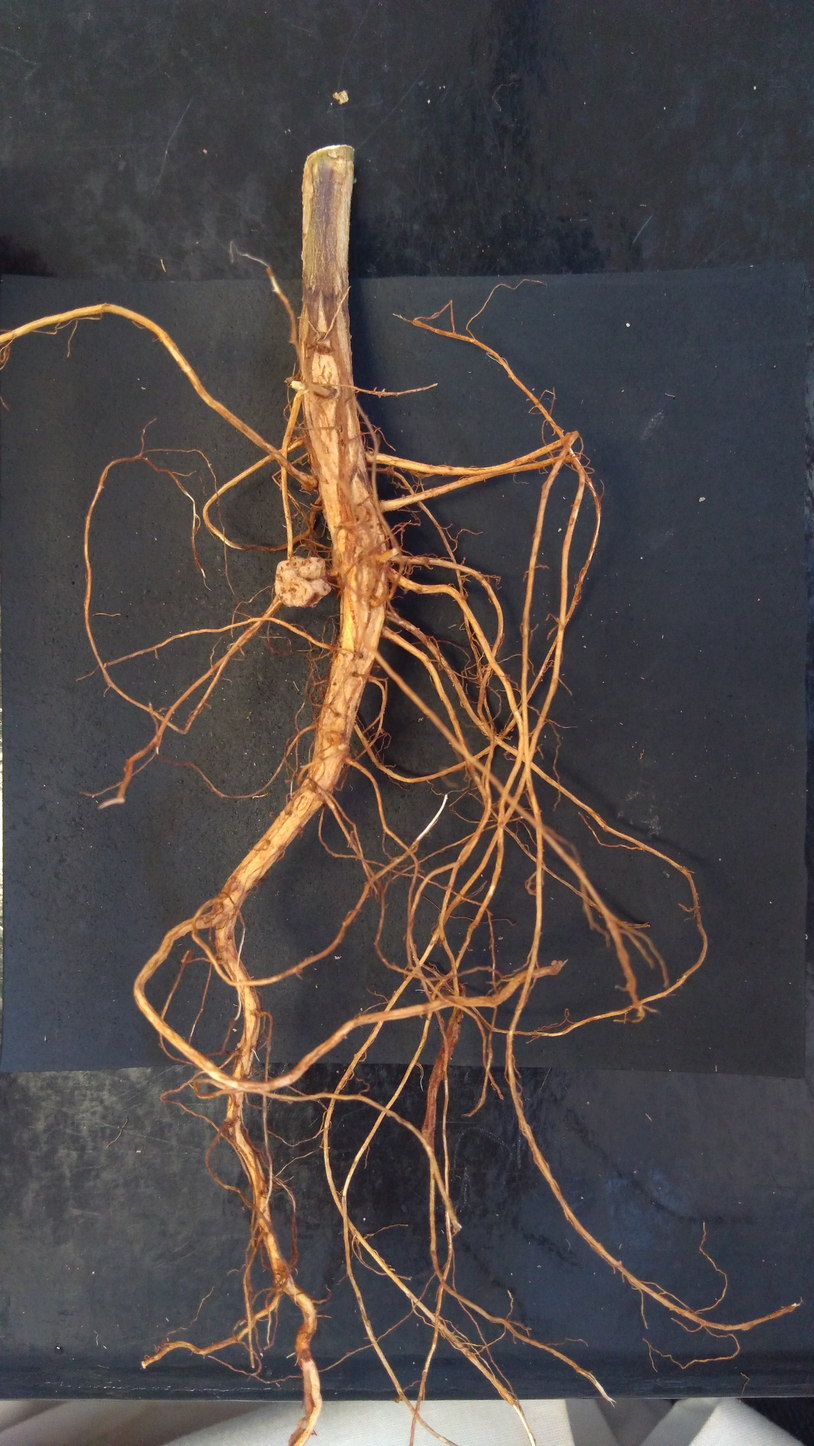nodule: (274, 555, 332, 608), (301, 475, 318, 491), (332, 90, 349, 105)
